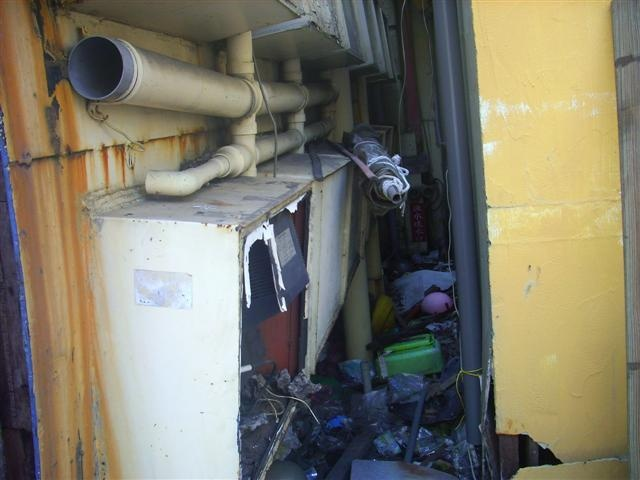box: (375, 335, 448, 382)
